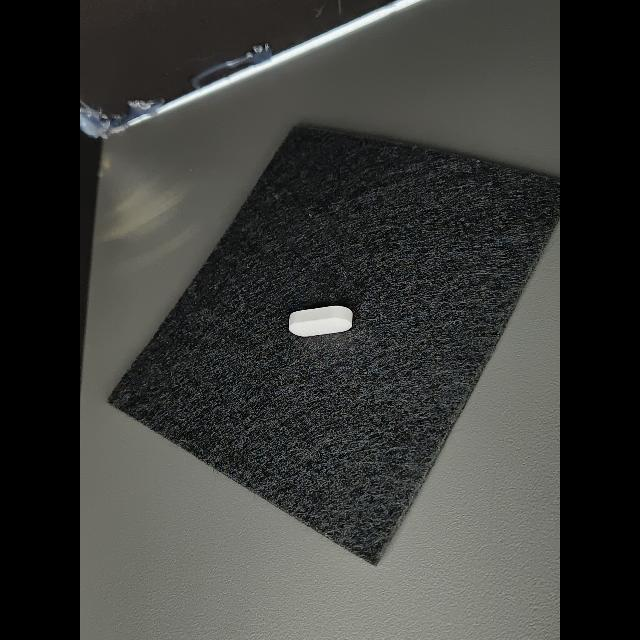Intact Pill: (289, 306, 352, 337)
